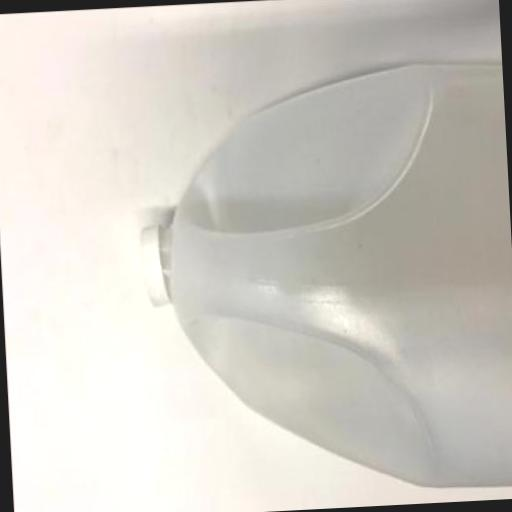plastic: (126, 55, 512, 500), (132, 222, 172, 304)
